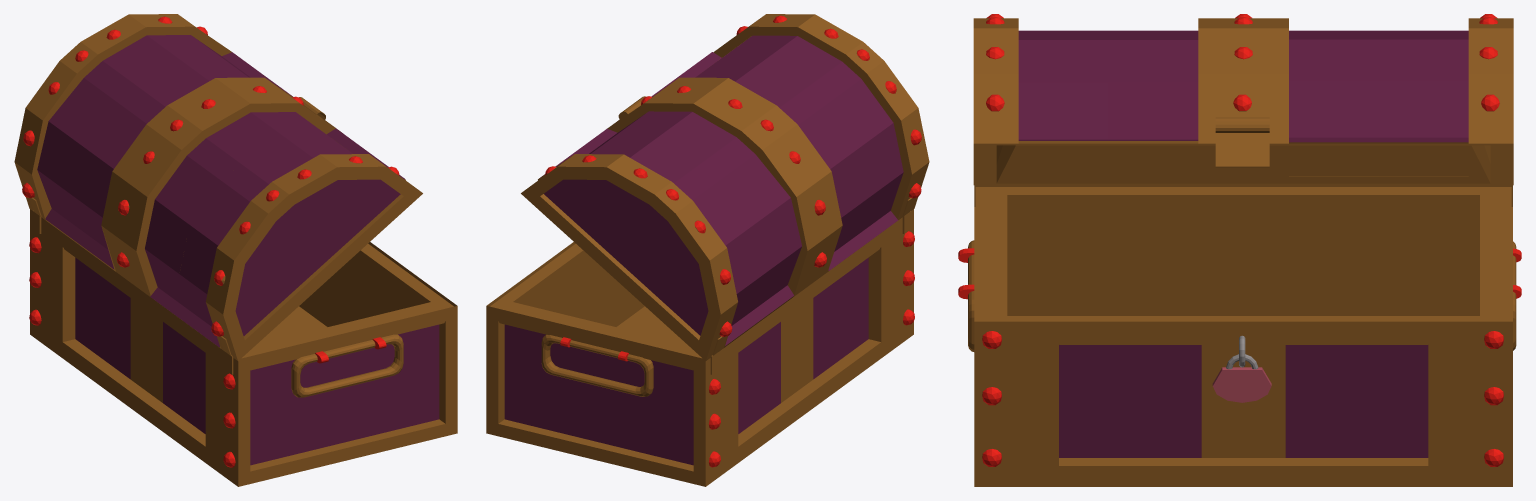
The model's file is chest.fbx.
The picture shows the model from 3 angles, left to right: view 1: azimuth 30°, elevation 25°; view 2: azimuth 150°, elevation 25°; view 3: azimuth 270°, elevation 25°; orthographic projection. The views are drawn at different scales.
Visible parts, largest first — view 1: Крышка сундука, Cube.006, Cube, Cube.004; view 2: Крышка сундука, Cube.006, Cube, Cube.004; view 3: Крышка сундука, Cube.006, Cube, Cube.002, Cube.004.
Boxes of the visible parts, x1,y1,x2,y2 form: Крышка сундука: (14, 14, 422, 360); Cube.006: (30, 209, 457, 486); Cube: (64, 244, 453, 370); Cube.004: (291, 334, 403, 397); Крышка сундука: (521, 14, 929, 360); Cube.006: (486, 209, 913, 486); Cube: (490, 244, 879, 370); Cube.004: (541, 334, 653, 396); Крышка сундука: (973, 14, 1513, 185); Cube.006: (974, 185, 1512, 486); Cube: (975, 187, 1511, 344); Cube.002: (1212, 367, 1271, 402); Cube.004: (968, 240, 1516, 351).
Size of the model in its own units: 102 by 116 by 155.
